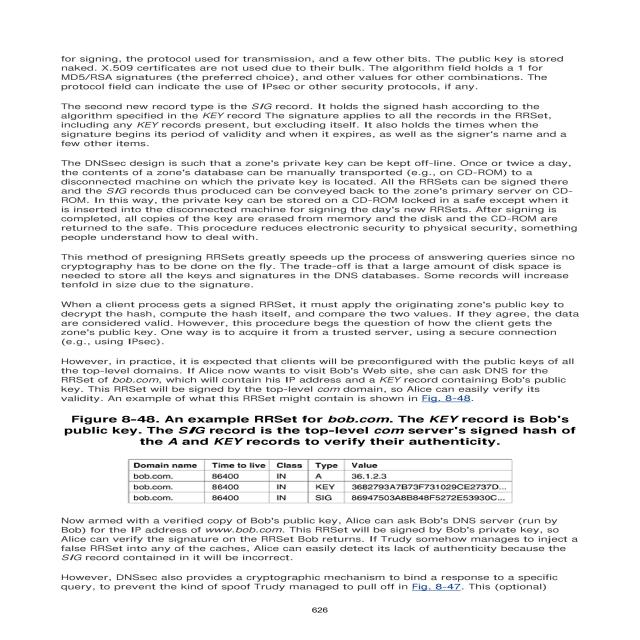diagram: (39, 409, 586, 511)
